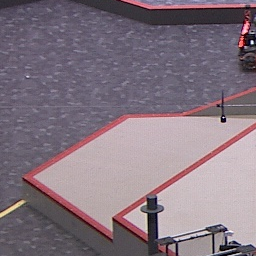Robot: (237, 5, 256, 72)
